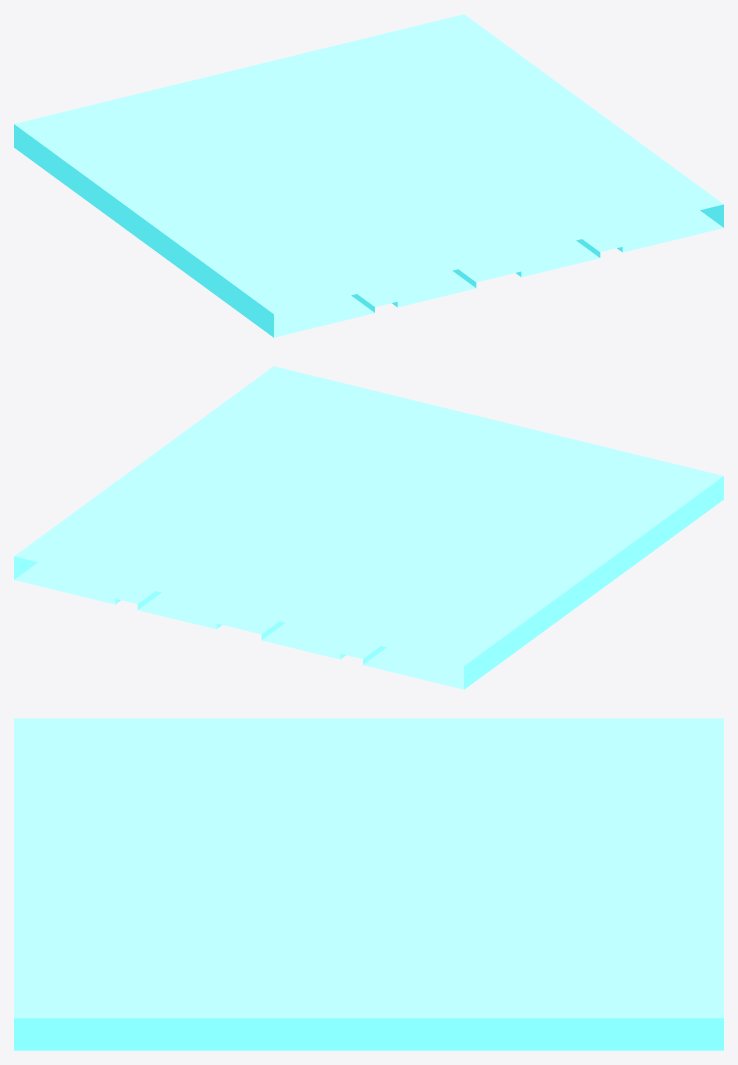
Rendered from ENV_MOD_07_CeilingTile.glb.
3 views of the same model, one above another, from view 1: azimuth 30°, elevation 25°; view 2: azimuth 150°, elevation 25°; view 3: azimuth 270°, elevation 25° (orthographic). The views are drawn at different scales.
Parts seen in each view (by area): view 1: SM_ENV_MOD_07_CeilingTile; view 2: SM_ENV_MOD_07_CeilingTile; view 3: SM_ENV_MOD_07_CeilingTile.
Part boxes in pixels (x1,y1,x2,y2): SM_ENV_MOD_07_CeilingTile: [14, 14, 723, 337]; SM_ENV_MOD_07_CeilingTile: [14, 366, 723, 689]; SM_ENV_MOD_07_CeilingTile: [14, 718, 723, 1050].
Bounding box in the file's own units: 4 × 0.2 × 4.
